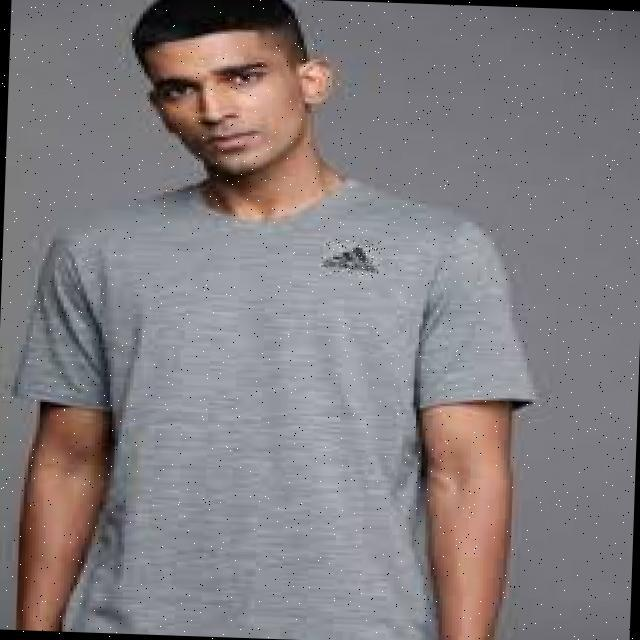Adidas: (319, 238, 382, 277)
